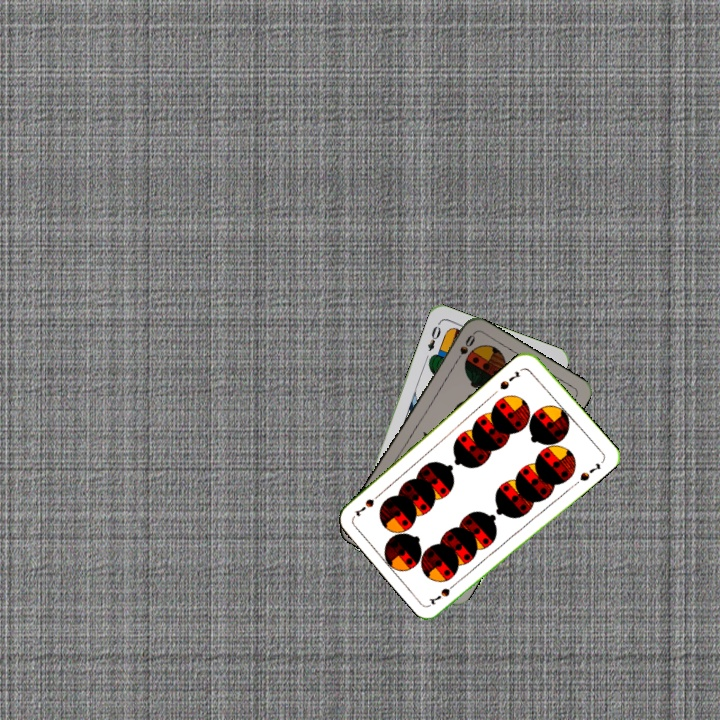EO: (423, 319, 444, 354)
S7: (426, 577, 461, 608), (496, 367, 523, 392)
SO: (450, 330, 478, 367)
